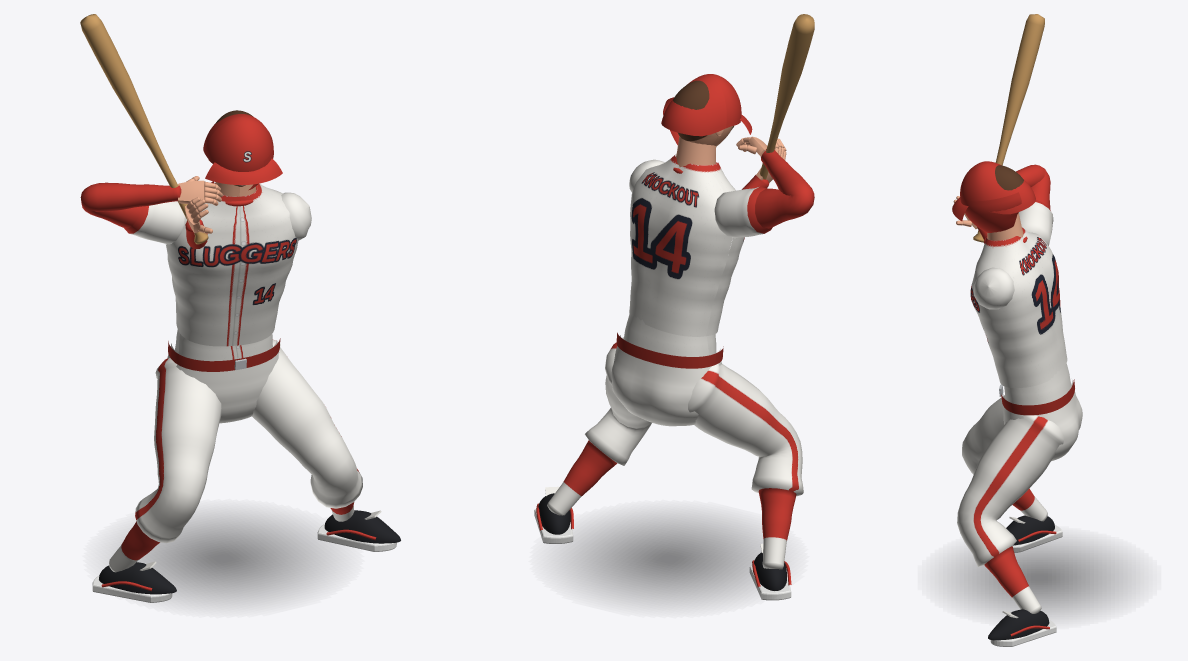
The model's file is batter_home.glb.
3 views of the same model, side by side, from view 1: azimuth 30°, elevation 25°; view 2: azimuth 150°, elevation 25°; view 3: azimuth 270°, elevation 25° (orthographic). The views are drawn at different scales.
Visible parts, largest first — view 1: batter_home, object 30, object 32; view 2: batter_home, object 30, object 2, object 29; view 3: batter_home, object 30, object 31, object 29, object 2.
Part boxes in pixels (x1=…): batter_home: x1=80, y1=14, x2=400, y2=603; object 30: x1=203, y1=114, x2=272, y2=171; object 32: x1=205, y1=158, x2=282, y2=184; batter_home: x1=534, y1=14, x2=814, y2=604; object 30: x1=661, y1=74, x2=741, y2=136; object 2: x1=676, y1=136, x2=716, y2=167; object 29: x1=673, y1=80, x2=709, y2=109; batter_home: x1=947, y1=14, x2=1131, y2=646; object 30: x1=960, y1=161, x2=1035, y2=214; object 31: x1=961, y1=192, x2=1021, y2=232; object 29: x1=995, y1=165, x2=1023, y2=190; object 2: x1=987, y1=213, x2=1023, y2=240.
Size of the model in its own units: 3.67 by 6.95 by 3.3.
Materials: 27 (5 with a texture image).
